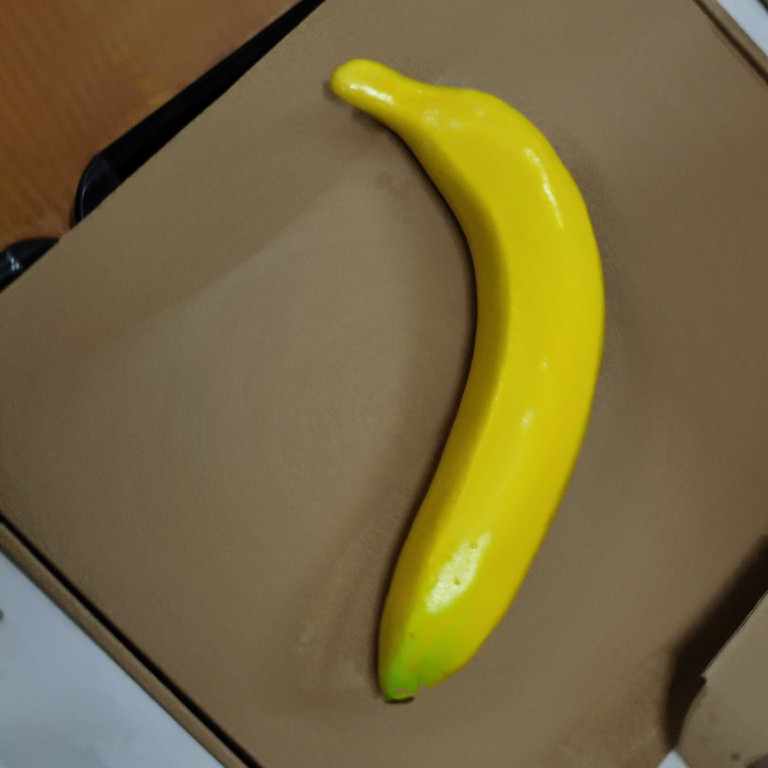fruit_banana: (325, 55, 610, 712)
